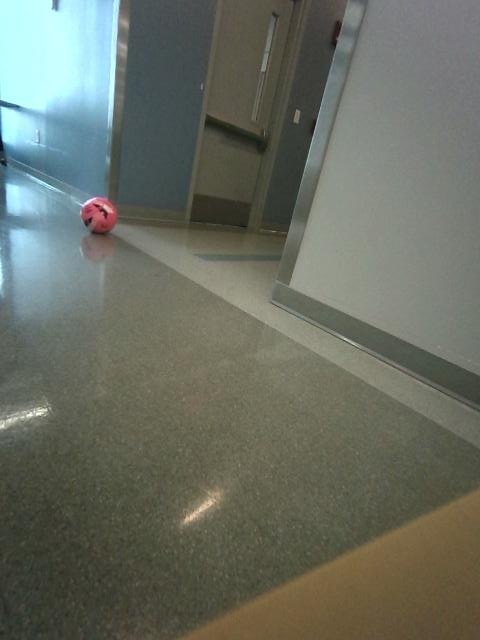ball: (80, 196, 116, 233)
